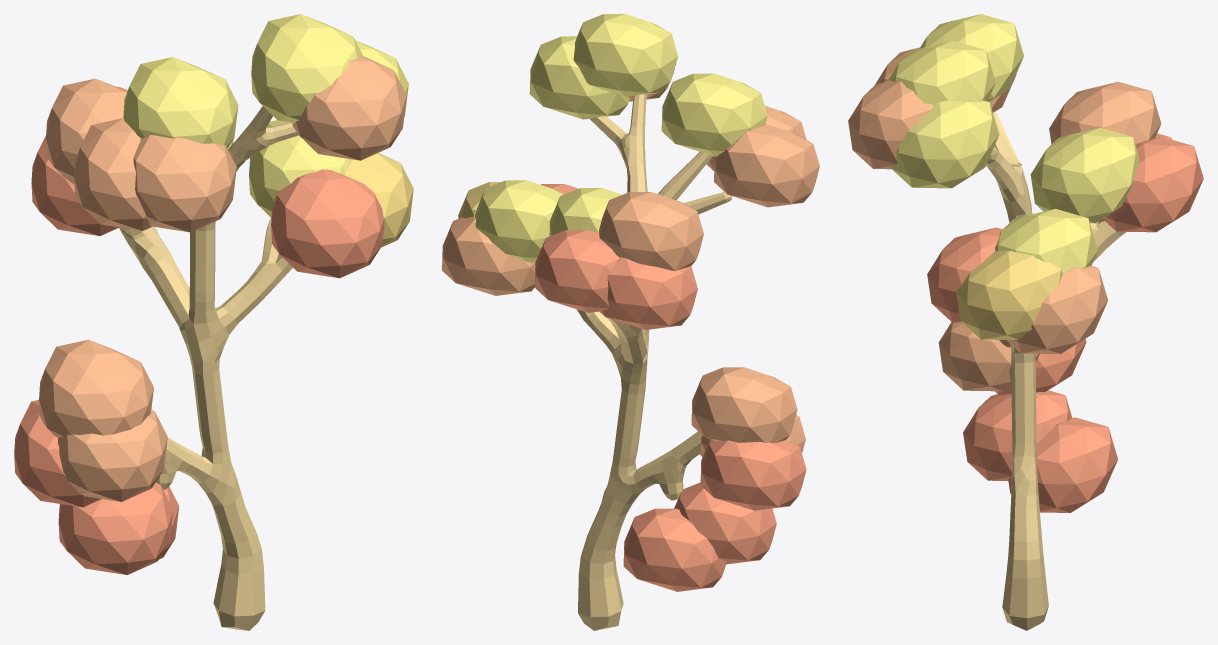
The model's file is tree15.gltf.
3 views of the same model, side by side, from view 1: azimuth 30°, elevation 25°; view 2: azimuth 150°, elevation 25°; view 3: azimuth 270°, elevation 25° (orthographic). The views are drawn at different scales.
Parts seen in each view (by area): view 1: Cube.001, Icosphere.012, Icosphere.013, Icosphere.007, Icosphere.005, Icosphere.006, Icosphere.008, Icosphere.014, Icosphere.011, Icosphere.001, Icosphere.003, Icosphere.016 (+4 smaller); view 2: Cube.001, Icosphere.006, Icosphere.013, Icosphere.001, Icosphere.008, Icosphere.003, Icosphere.016, Icosphere.015, Icosphere.017, Icosphere, Icosphere.010, Icosphere.014 (+5 smaller); view 3: Cube.001, Icosphere.009, Icosphere.002, Icosphere.004, Icosphere.015, Icosphere.017, Icosphere.018, Icosphere.006, Icosphere.014, Icosphere.003, Icosphere.005, Icosphere.010 (+4 smaller).
Part boxes in pixels (bbox=[...]): Cube.001: bbox=[119, 106, 298, 630]; Icosphere.012: bbox=[271, 169, 384, 278]; Icosphere.013: bbox=[39, 339, 153, 437]; Icosphere.007: bbox=[133, 135, 236, 232]; Icosphere.005: bbox=[292, 55, 406, 160]; Icosphere.006: bbox=[251, 14, 363, 122]; Icosphere.008: bbox=[123, 57, 238, 148]; Icosphere.014: bbox=[58, 482, 173, 574]; Icosphere.011: bbox=[58, 410, 167, 501]; Icosphere.001: bbox=[74, 118, 152, 230]; Icosphere.003: bbox=[46, 78, 127, 184]; Icosphere.016: bbox=[14, 400, 101, 507]; Cube.001: bbox=[577, 94, 732, 630]; Icosphere.006: bbox=[573, 14, 677, 96]; Icosphere.013: bbox=[691, 367, 797, 442]; Icosphere.001: bbox=[714, 124, 819, 207]; Icosphere.008: bbox=[661, 73, 767, 156]; Icosphere.003: bbox=[599, 192, 703, 270]; Icosphere.016: bbox=[700, 440, 806, 510]; Icosphere.015: bbox=[623, 508, 726, 591]; Icosphere.017: bbox=[534, 230, 619, 312]; Icosphere: bbox=[599, 257, 697, 329]; Icosphere.010: bbox=[475, 180, 563, 262]; Icosphere.014: bbox=[674, 482, 776, 564]; Cube.001: bbox=[986, 112, 1125, 630]; Icosphere.009: bbox=[1030, 127, 1139, 223]; Icosphere.002: bbox=[891, 98, 999, 188]; Icosphere.004: bbox=[956, 250, 1062, 339]; Icosphere.015: bbox=[1008, 417, 1117, 512]; Icosphere.017: bbox=[1103, 136, 1203, 232]; Icosphere.018: bbox=[1006, 265, 1108, 353]; Icosphere.006: bbox=[888, 40, 995, 104]; Icosphere.014: bbox=[963, 390, 1072, 480]; Icosphere.003: bbox=[1049, 81, 1161, 144]; Icosphere.005: bbox=[848, 80, 933, 169]; Icosphere.010: bbox=[995, 208, 1097, 273].
Bounding box in the file's own units: 4.88 × 7.87 × 4.3.
